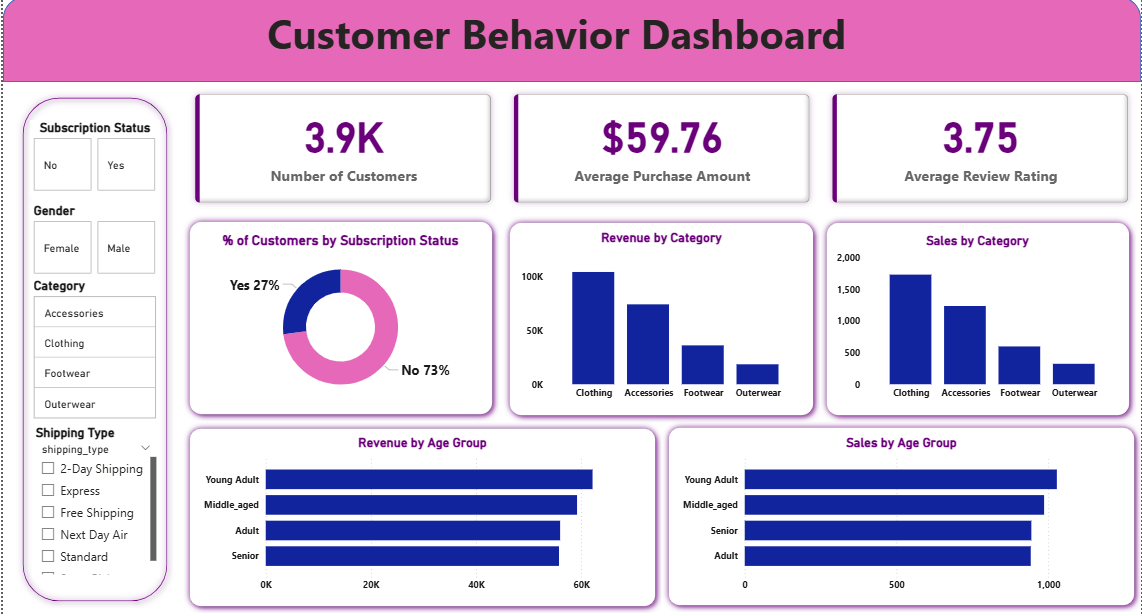

The dashboard page shown, as its layout file describes it:
{"tool":"powerbi","page":{"name":"Page 1","canvas":[1500,820],"ordinal":0},"visuals":[{"type":"cardVisual","fields":{"Data":["customer_cleaned.Number of customers","customer_cleaned.Average Purchase Amount","customer_cleaned.Average Review Rating"]},"box":[237.3,116,1263,175.3],"z":0},{"type":"shape","box":[0,4,1500.3,112.1],"z":1000},{"type":"textbox","box":[0,9.2,1460.7,102.8],"z":2000},{"type":"shape","box":[1077.1,292.7,416.6,271.6],"z":3000},{"type":"shape","box":[237.3,291.4,416.6,271.6],"z":4000},{"type":"shape","box":[659.2,292.7,417.9,271.6],"z":5000},{"type":"clusteredColumnChart","title":"Revenue by Category","fields":{"Y":["Sum(customer_cleaned.purchase_amount)"],"Category":["customer_cleaned.category"]},"box":[677.6,311.1,381,233.3],"z":6000},{"type":"donutChart","title":" % of Customers by Subscription Status","fields":{"Category":["customer_cleaned.subscription_status"],"Y":["CountNonNull(customer_cleaned.customer_id)"]},"box":[255.8,313.8,378.4,229.4],"z":7000},{"type":"clusteredColumnChart","title":"Sales by Category","fields":{"Y":["CountNonNull(customer_cleaned.customer_id)"],"Category":["customer_cleaned.category"]},"box":[1094.2,315.1,381,229.4],"z":8000},{"type":"shape","box":[17.1,127.9,208.3,681.6],"z":9000},{"type":"advancedSlicerVisual","fields":{"Values":["customer_cleaned.subscription_status"]},"box":[35.6,166.1,171.4,98.9],"z":10000},{"type":"advancedSlicerVisual","fields":{"Values":["customer_cleaned.gender"]},"box":[35.6,275.5,171.4,98.9],"z":11000},{"type":"advancedSlicerVisual","fields":{"Values":["customer_cleaned.category"]},"box":[35.6,374.4,171.4,193.8],"z":12000},{"type":"slicer","title":"Shipping Type","fields":{"Values":["customer_cleaned.shipping_type"]},"box":[38.2,568.2,168.7,201.7],"z":13000},{"type":"shape","box":[237.3,564.2,631.5,251.8],"z":14000},{"type":"clusteredBarChart","title":"Revenue by Age Group","fields":{"Y":["Sum(customer_cleaned.purchase_amount)"],"Category":["customer_cleaned.age_group"]},"box":[258.4,581.4,589.3,216.2],"z":15000},{"type":"shape","box":[868.8,562.9,631.5,251.8],"z":16000},{"type":"clusteredBarChart","title":"Sales by Age Group","fields":{"Category":["customer_cleaned.age_group"],"Y":["CountNonNull(customer_cleaned.customer_id)"]},"box":[889.9,581.4,589.3,216.2],"z":17000}]}

Visuals, with their boxes in screenshot pixels (x1, y1, x2, y2), scaled from the page's 1500x820 canvas onto the 1142x616 screenshot:
cardVisual - customer_cleaned.Number of customers x customer_cleaned.Average Purchase Amount: l=181, t=87, r=1141, b=219
shape: l=0, t=3, r=1141, b=87
textbox: l=0, t=7, r=1112, b=84
shape: l=820, t=220, r=1137, b=424
shape: l=181, t=219, r=498, b=423
shape: l=502, t=220, r=820, b=424
"Revenue by Category" clusteredColumnChart: l=516, t=234, r=806, b=409
" % of Customers by Subscription Status" donutChart: l=195, t=236, r=483, b=408
"Sales by Category" clusteredColumnChart: l=833, t=237, r=1123, b=409
shape: l=13, t=96, r=172, b=608
advancedSlicerVisual - customer_cleaned.subscription_status: l=27, t=125, r=158, b=199
advancedSlicerVisual - customer_cleaned.gender: l=27, t=207, r=158, b=281
advancedSlicerVisual - customer_cleaned.category: l=27, t=281, r=158, b=427
"Shipping Type" slicer: l=29, t=427, r=158, b=578
shape: l=181, t=424, r=661, b=613
"Revenue by Age Group" clusteredBarChart: l=197, t=437, r=645, b=599
shape: l=661, t=423, r=1141, b=612
"Sales by Age Group" clusteredBarChart: l=678, t=437, r=1126, b=599
